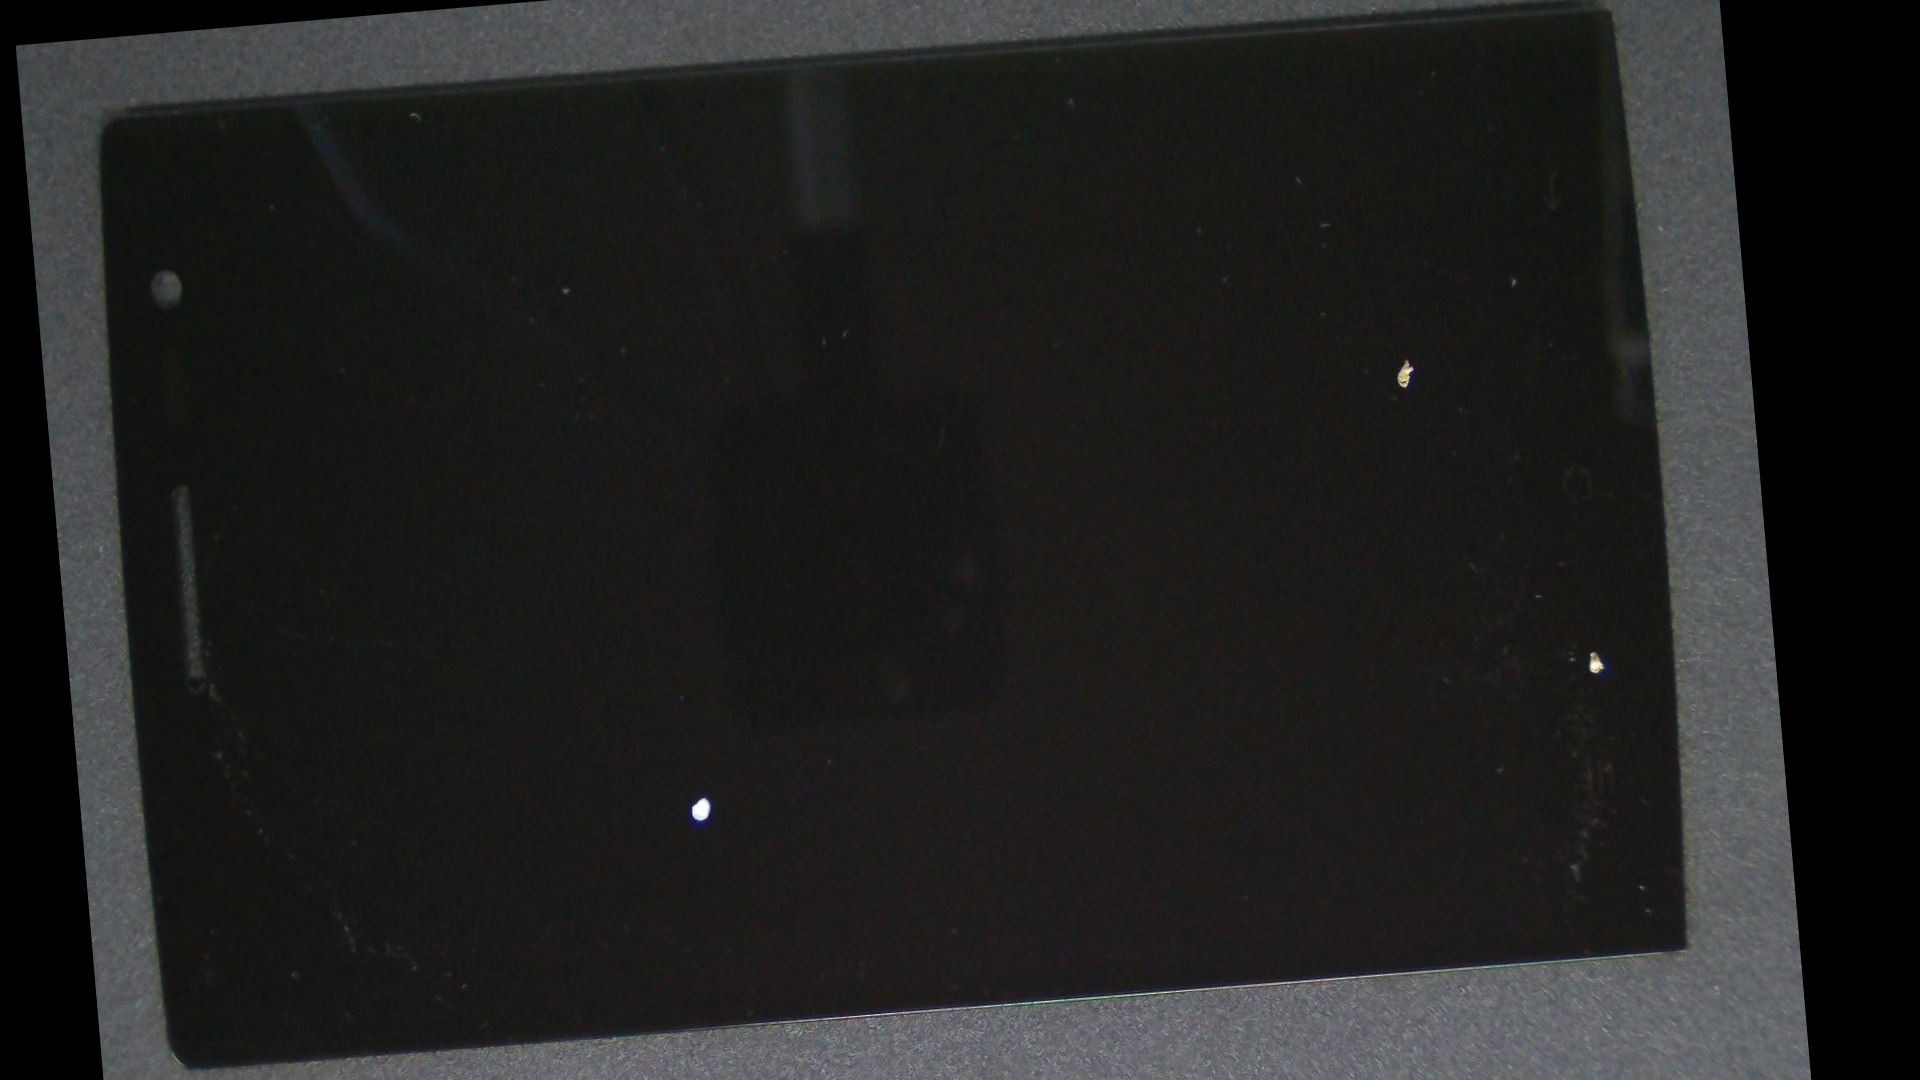oil: (803, 268, 1805, 1080), (711, 115, 1766, 629), (360, 368, 1046, 1080)
